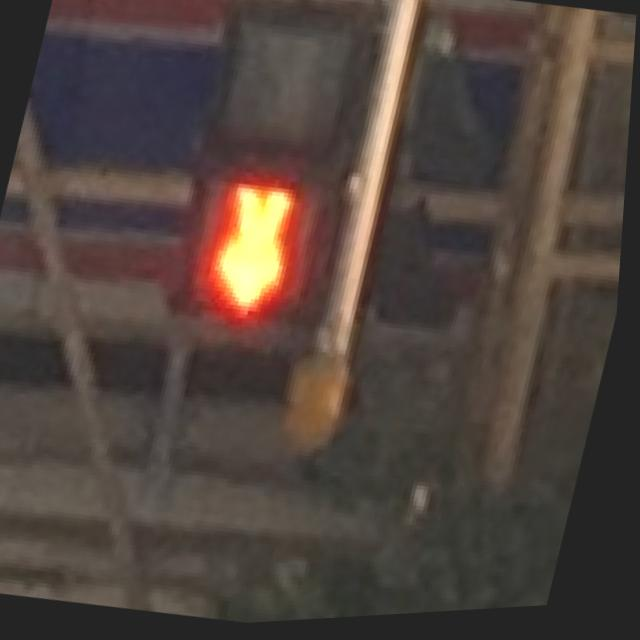red_light: (176, 168, 344, 347)
